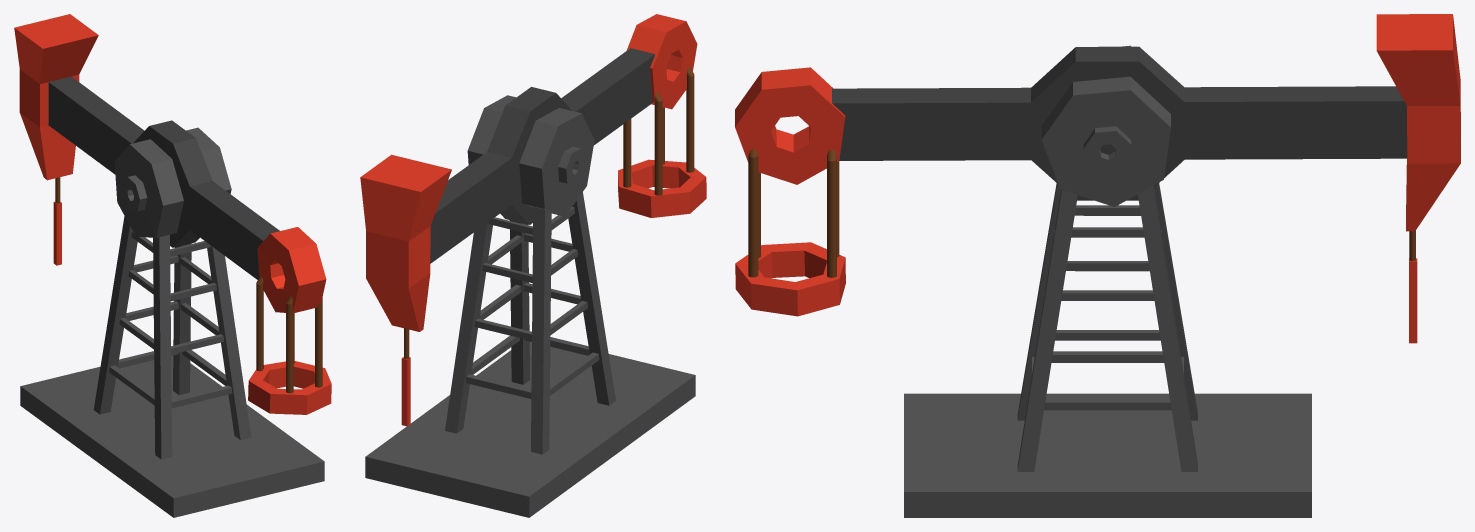
File: OildPipe 1.fbx
3 views of the same model, side by side, from view 1: azimuth 30°, elevation 25°; view 2: azimuth 150°, elevation 25°; view 3: azimuth 270°, elevation 25° (orthographic). The views are drawn at different scales.
Visible parts, largest first — view 1: Base, Pump; view 2: Base, Pump; view 3: Base, Pump.
Boxes of the visible parts, bbox=[...] form: Base: bbox=[20, 127, 324, 517]; Pump: bbox=[14, 14, 331, 414]; Base: bbox=[365, 95, 695, 517]; Pump: bbox=[360, 14, 706, 426]; Base: bbox=[904, 45, 1311, 517]; Pump: bbox=[735, 14, 1460, 343].
Bounding box in the file's own units: 280 × 580 × 874.
